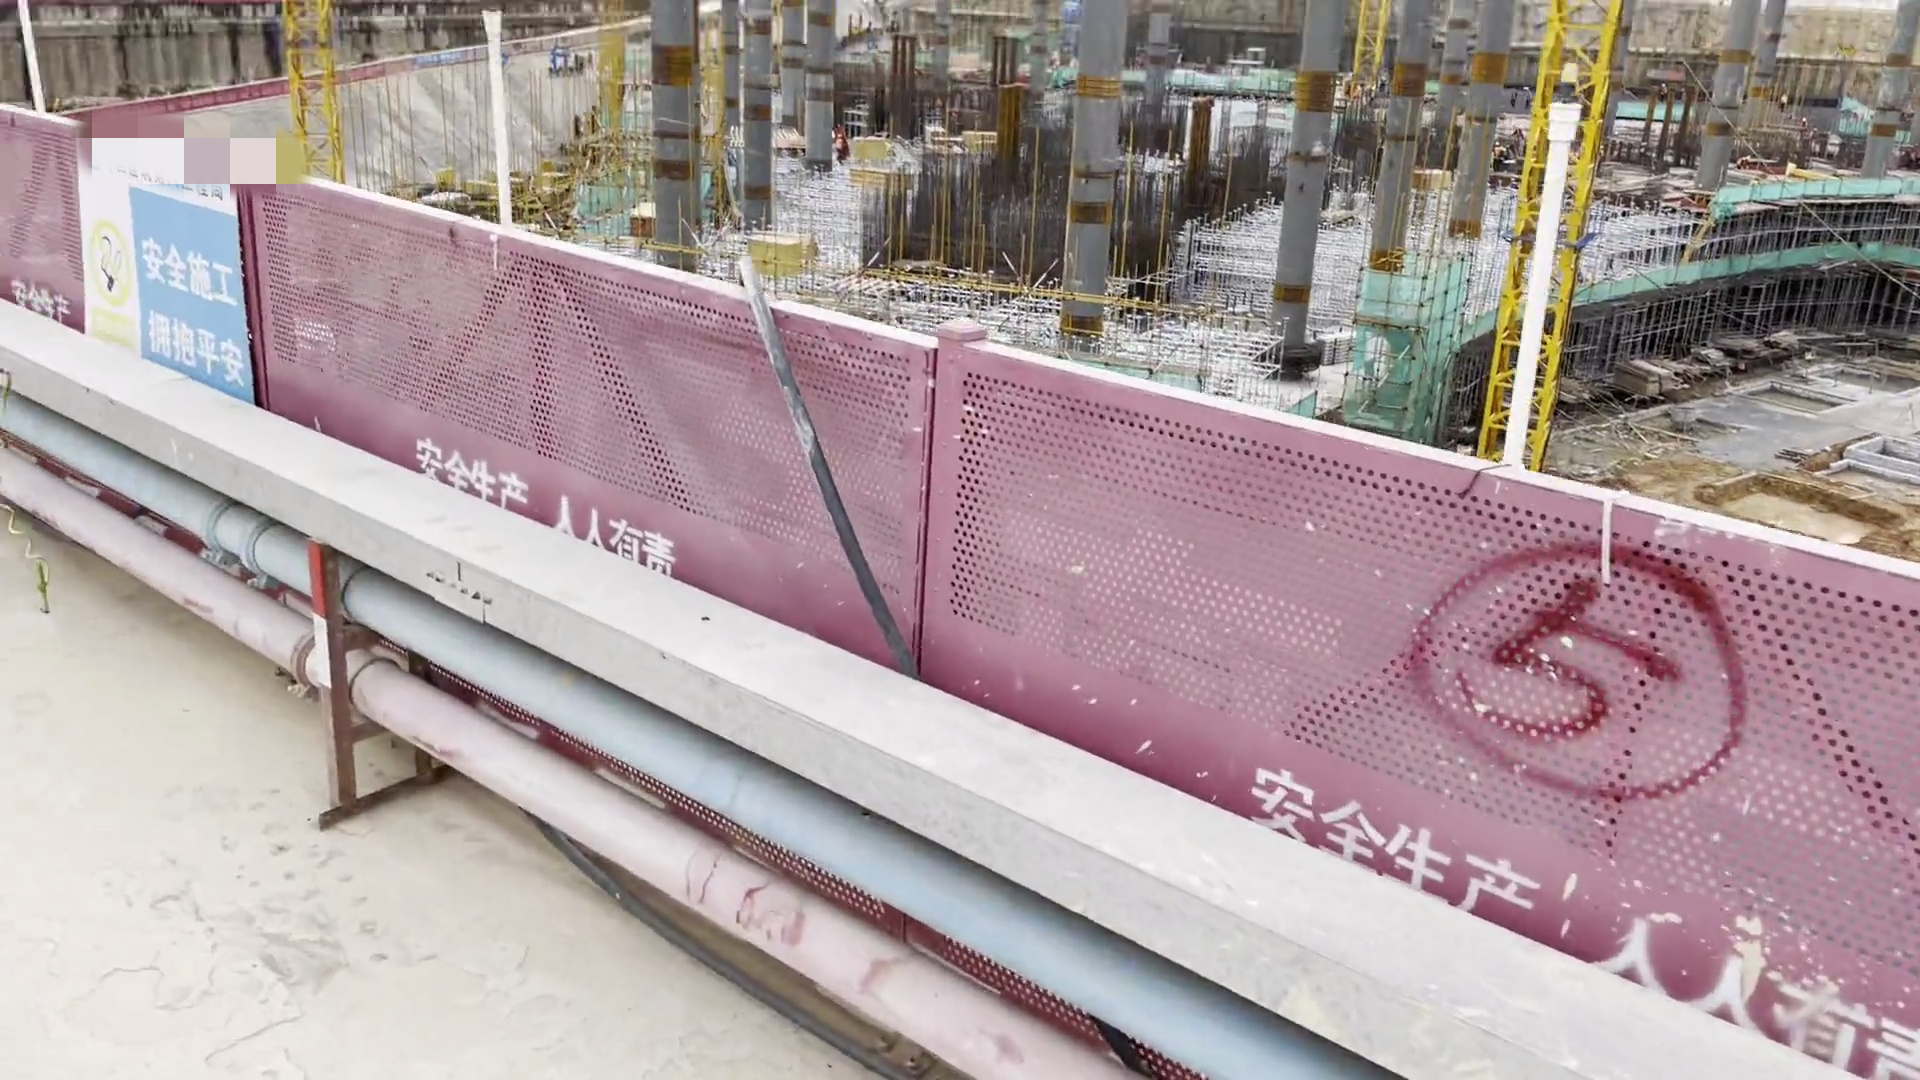brick: (1830, 434, 1903, 483), (1767, 378, 1846, 404)
fence: (905, 323, 1544, 1039), (276, 171, 957, 764), (1523, 459, 1920, 1080), (3, 104, 295, 448)
scaffold: (1317, 320, 1358, 369)
slogan: (41, 105, 313, 422)
wood: (746, 231, 822, 276), (618, 198, 655, 243)
